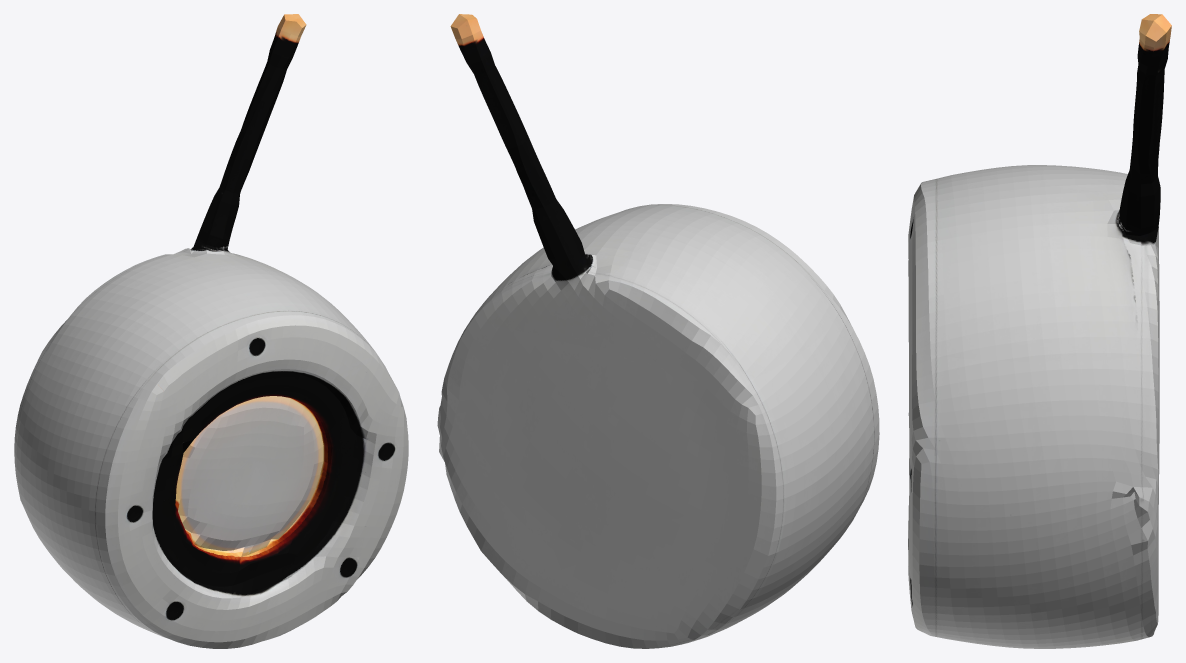
3 renders of one model, left to right at view 1: azimuth 30°, elevation 25°; view 2: azimuth 150°, elevation 25°; view 3: azimuth 270°, elevation 25°, orthographic. The views are drawn at different scales.
Visible parts, largest first — view 1: RETOPO; view 2: RETOPO; view 3: RETOPO.
Part boxes in pixels (x1=…): RETOPO: x1=14, y1=14, x2=408, y2=648; RETOPO: x1=437, y1=14, x2=879, y2=648; RETOPO: x1=908, y1=14, x2=1171, y2=648.
Size of the model in its own units: 1.23 by 1.99 by 0.6912.
Materials: 1 (1 with a texture image).
